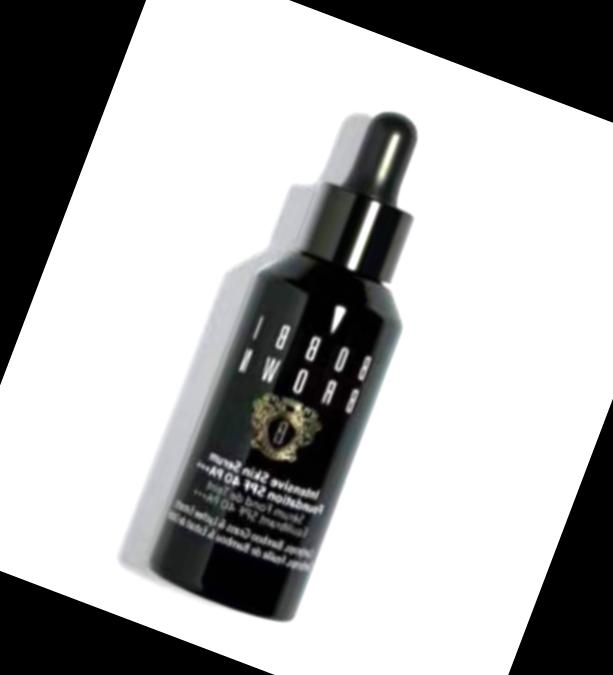cosmetic: (149, 87, 478, 622)
